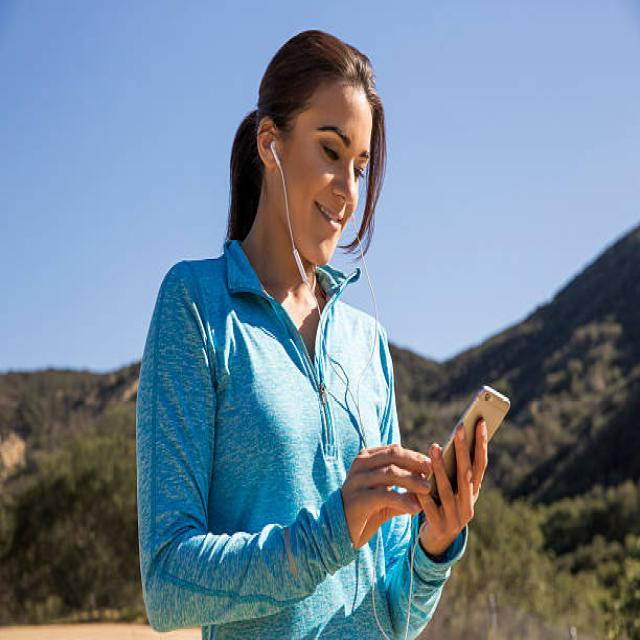Earphone: (269, 138, 380, 450)
